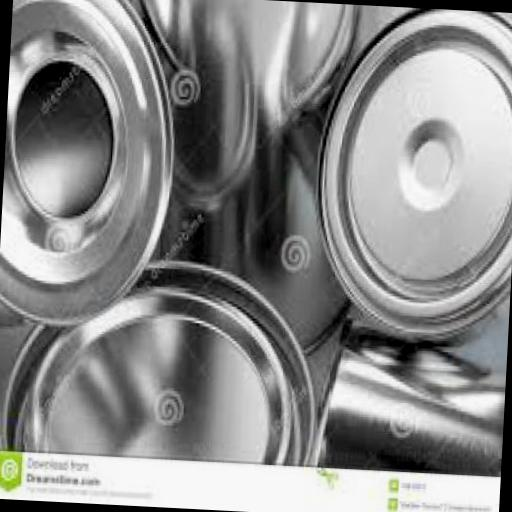metal: (303, 3, 512, 343), (0, 247, 329, 462), (0, 0, 181, 327), (185, 106, 357, 352), (119, 0, 262, 265), (127, 0, 357, 142), (318, 318, 506, 472)
